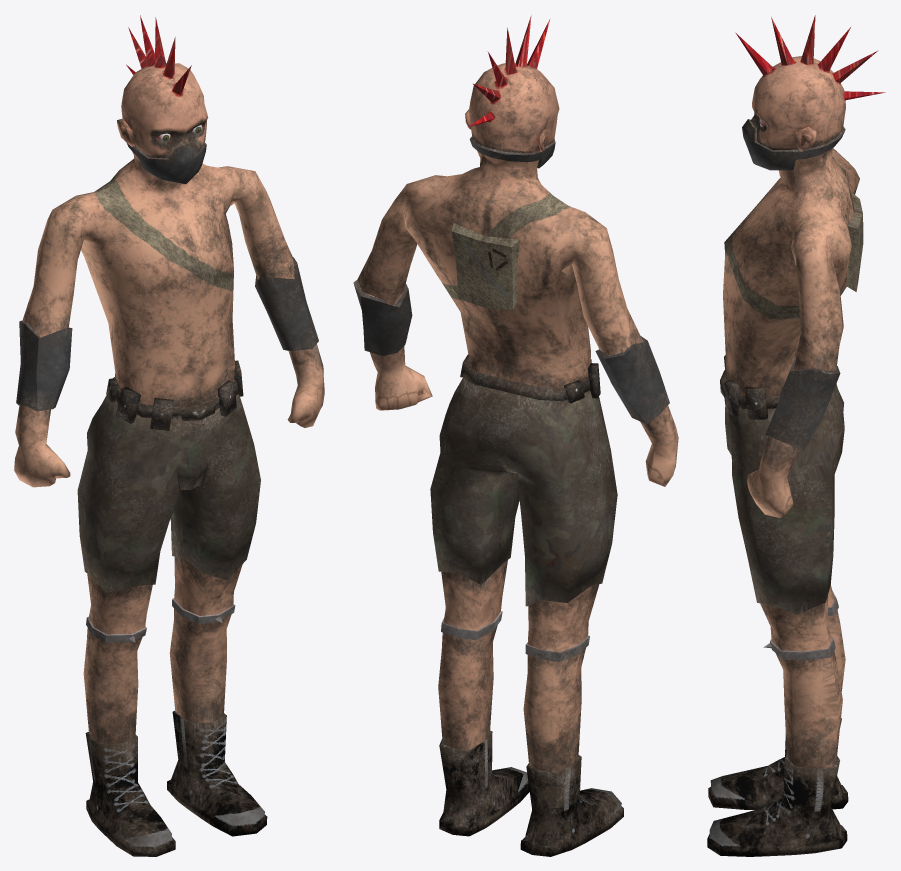
File: Anim_cogerobjeto_npc2.0014.obj
The picture shows the model from 3 angles, left to right: view 1: azimuth 30°, elevation 25°; view 2: azimuth 150°, elevation 25°; view 3: azimuth 270°, elevation 25°; orthographic projection. The views are drawn at different scales.
Visible parts, largest first — view 1: polySurface1; view 2: polySurface1; view 3: polySurface1.
Part boxes in pixels (x1=…): polySurface1: x1=14, y1=15, x2=324, y2=856; polySurface1: x1=353, y1=15, x2=678, y2=856; polySurface1: x1=707, y1=15, x2=885, y2=856.
Size of the model in its own units: 4.08 by 10.19 by 2.05.
